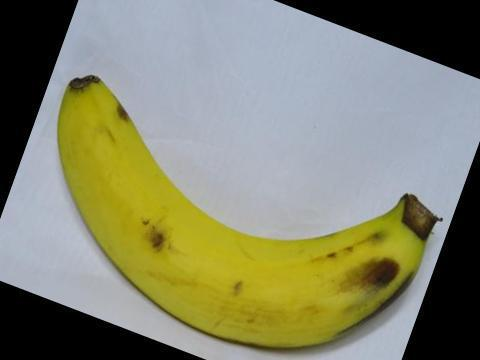freshripe: (40, 67, 449, 359)
